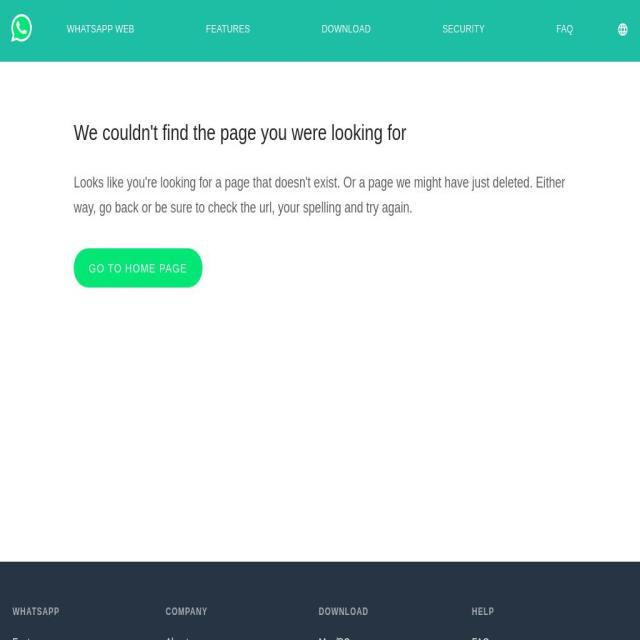button: (74, 248, 202, 288), (604, 5, 640, 57)
heading: (12, 606, 152, 617), (318, 606, 458, 617), (166, 606, 304, 617), (472, 606, 610, 617)
image: (5, 6, 33, 52), (617, 22, 629, 38)
link: (79, 38, 147, 54), (334, 38, 383, 54), (218, 38, 263, 54), (454, 38, 498, 54), (569, 38, 586, 54), (12, 636, 47, 640), (318, 636, 351, 640), (166, 636, 190, 640), (472, 636, 490, 640)
text: (74, 170, 566, 220), (74, 120, 566, 146)
